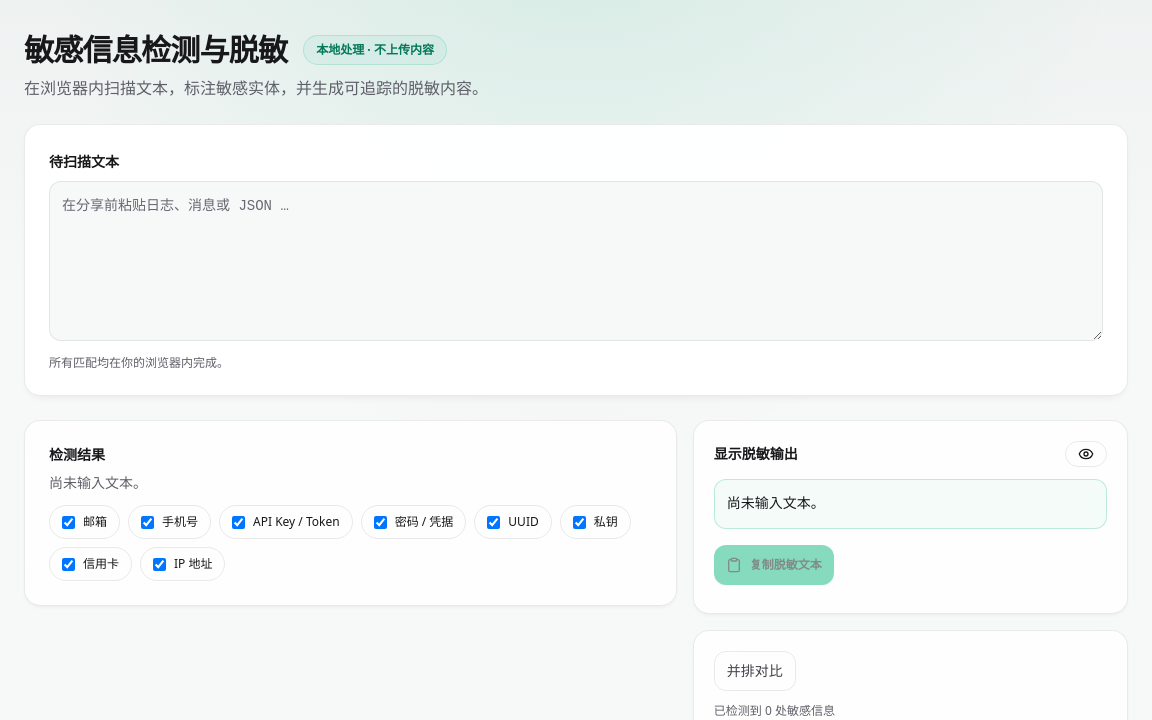
Scenario: SensitiveDataClient › detects credentials and uses localized result labels
Type "mysql -u root -pmeimei -h 192.168.31.1" into the text box labelled "待扫描文本" at (576, 261), box x1=49 y1=181 x2=1103 y2=341
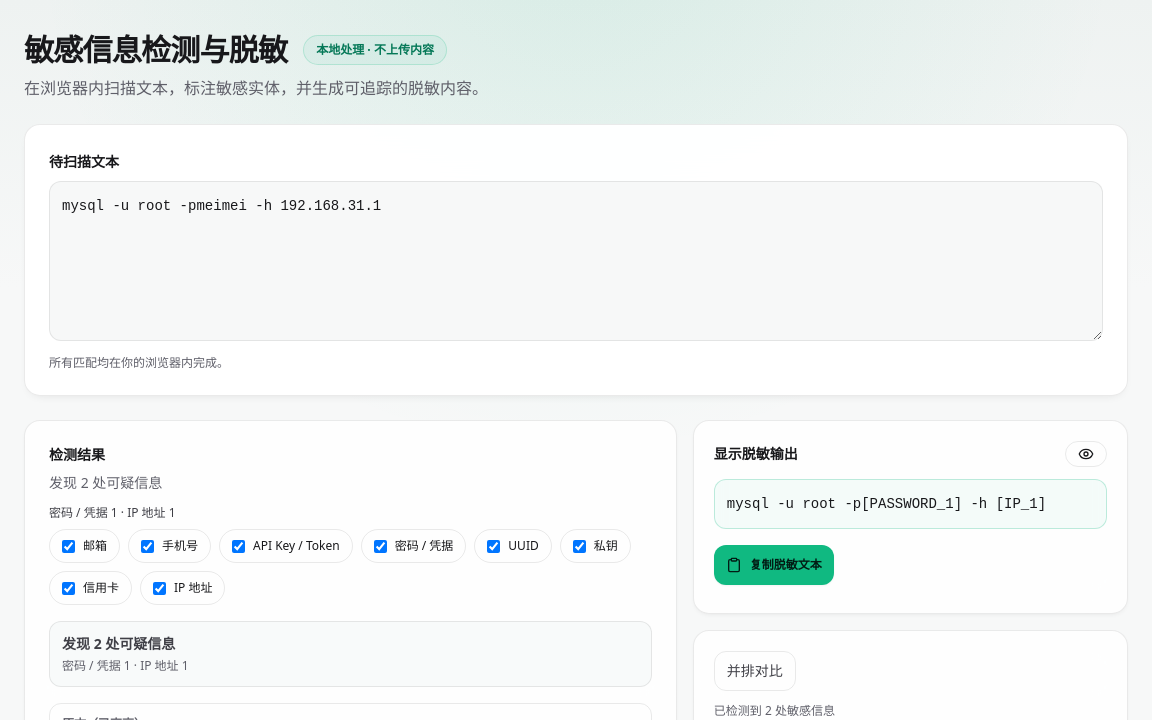
Result: the text "已检测到 2 处敏感信息" is shown at x1=714 y1=702 x2=835 y2=719
